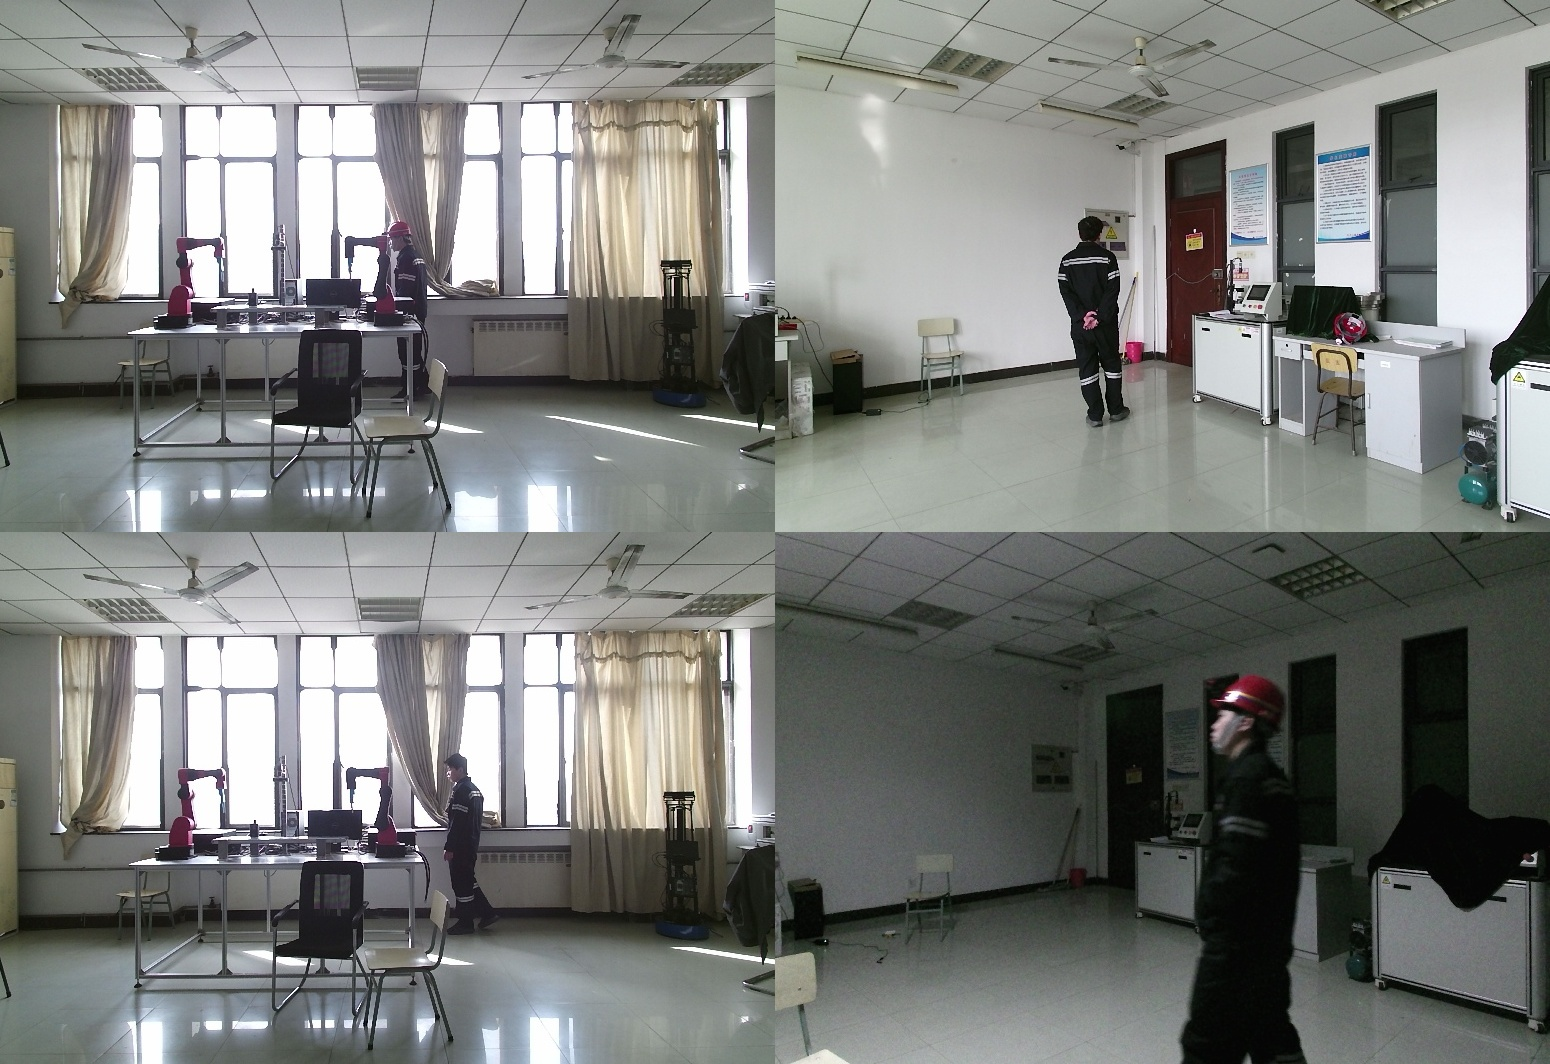person: (1183, 670, 1330, 1064), (1054, 215, 1135, 432), (445, 752, 503, 941), (383, 220, 428, 402)
